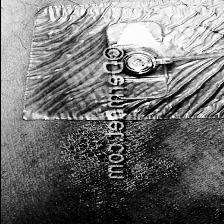Toxin: (127, 126, 180, 200), (54, 124, 102, 194)
